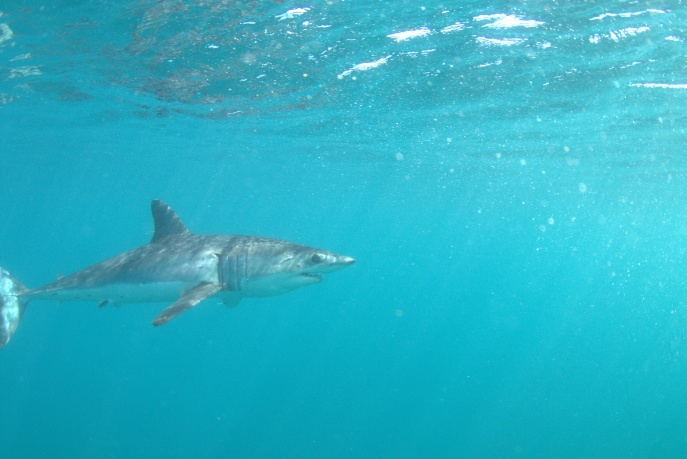Mako: (1, 188, 369, 372)
